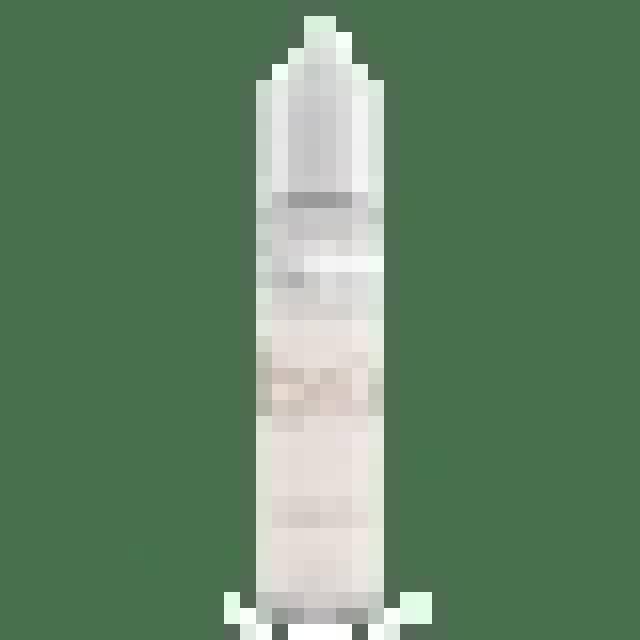Vape-images: (208, 0, 432, 624)
